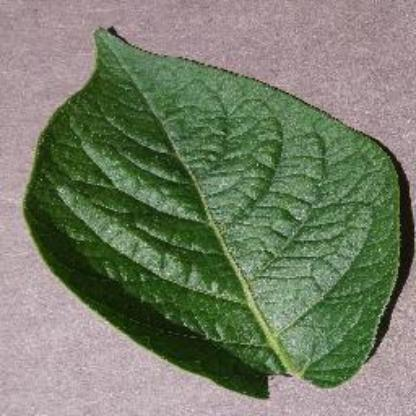Healthy-plant: (15, 21, 408, 405)
